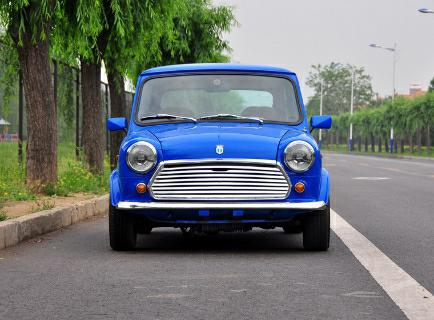MINI: (104, 65, 333, 251)
